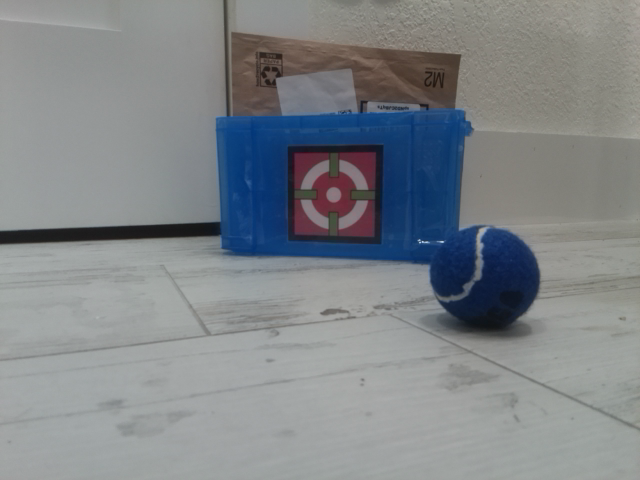blue-ball: (428, 224, 542, 330)
drop-bin: (286, 144, 385, 244)
